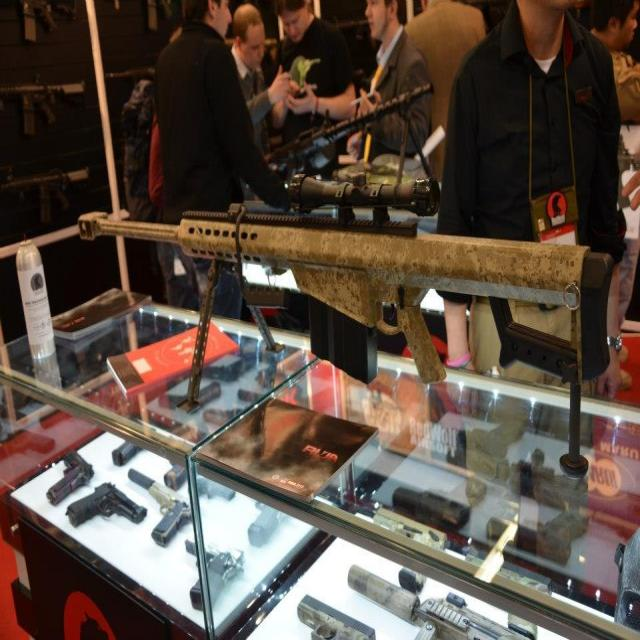firearm: (75, 173, 612, 482), (265, 78, 437, 174), (346, 563, 536, 640)
pistol: (464, 552, 552, 638), (371, 506, 448, 597), (486, 508, 590, 567), (391, 474, 488, 534), (128, 468, 192, 548), (185, 536, 244, 613), (65, 482, 148, 529), (297, 593, 375, 640), (46, 449, 94, 506)
